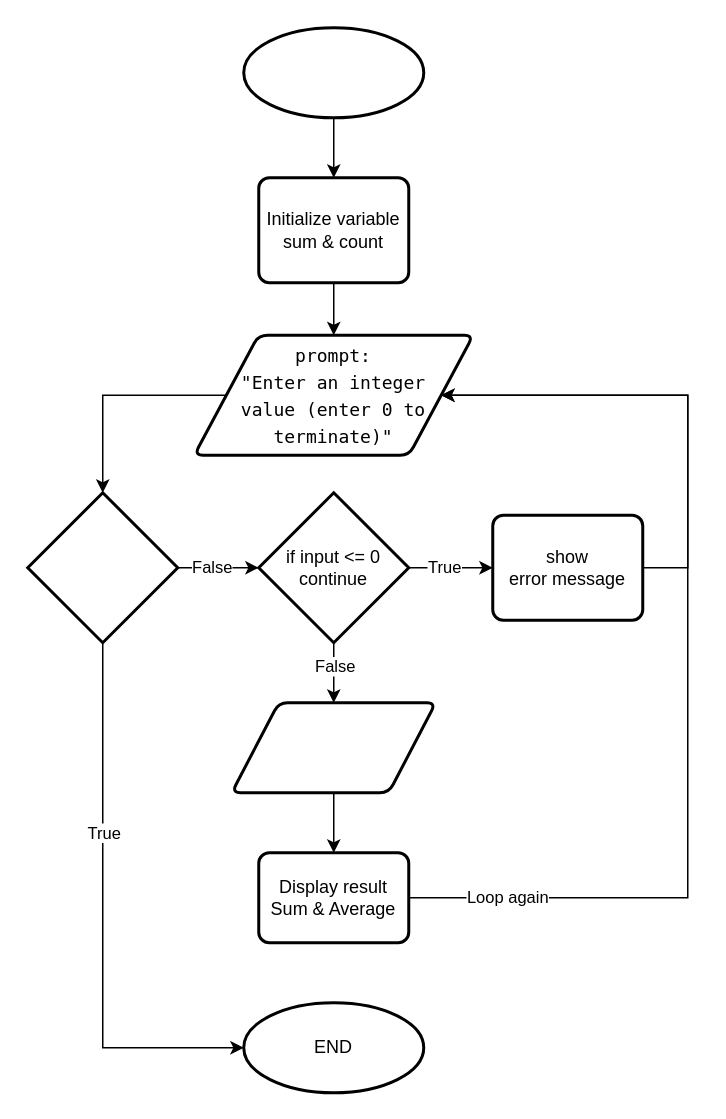
The diagram is 726 pixels wide and 1119 high, and some of its shapes have lost their labels. Each missing label, with the centre of its shape:
if input == 0 break: point 102,567
START: point 333,72
update sum & count: point 333,747
